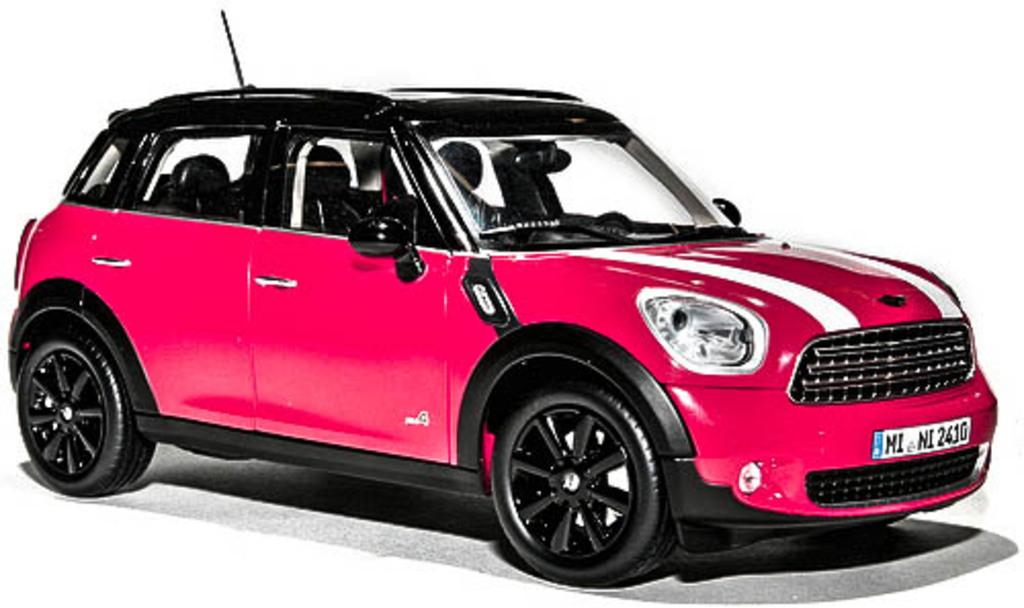car: (8, 82, 997, 581)
